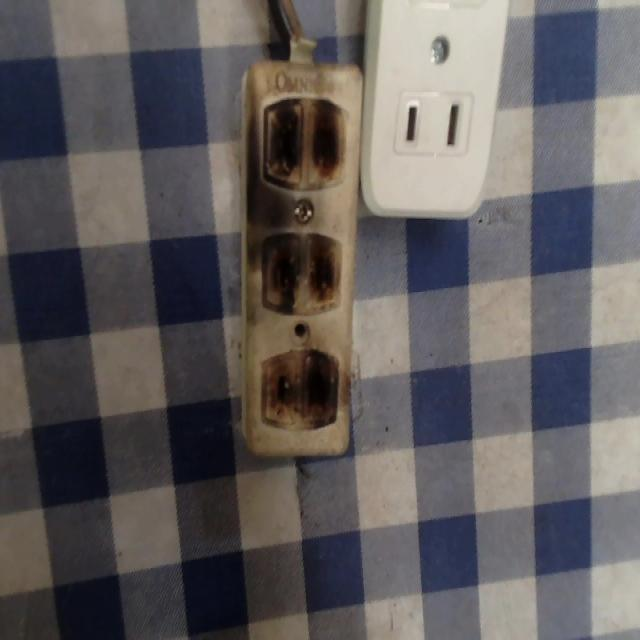-: (259, 88, 349, 189), (256, 225, 343, 316), (257, 346, 338, 430)
